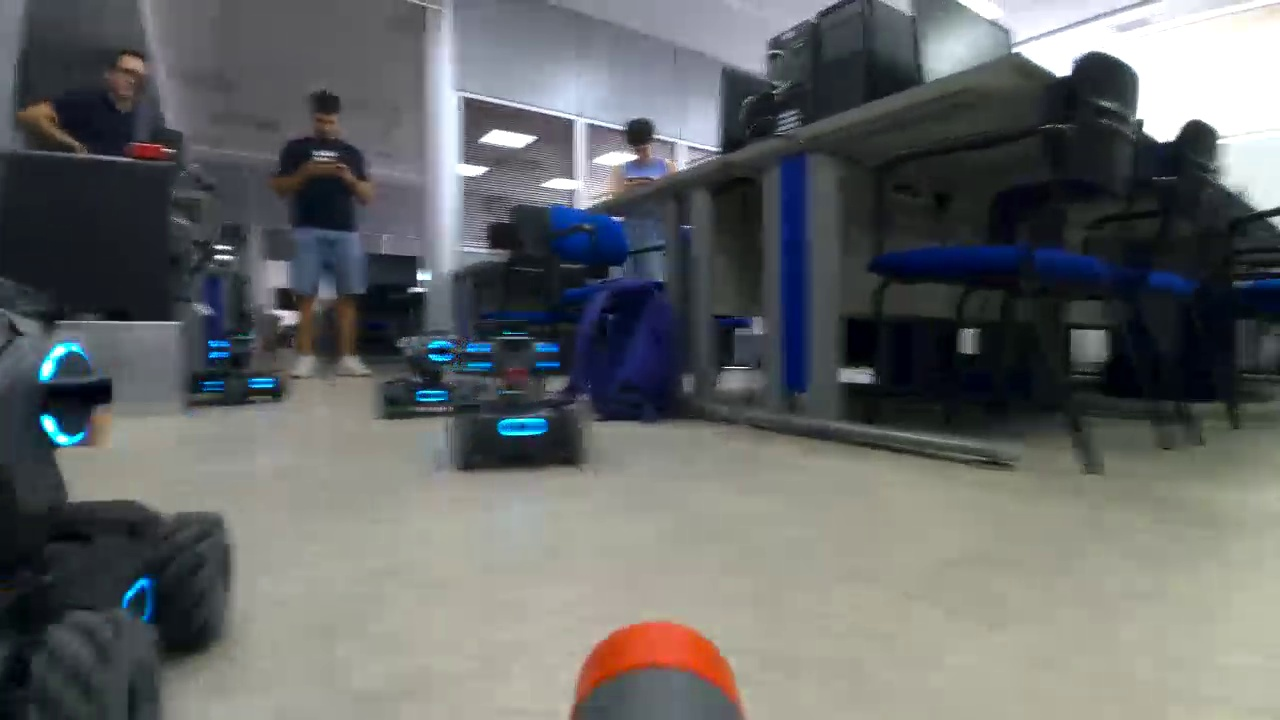robot: (1, 263, 246, 720), (436, 333, 599, 483), (372, 323, 485, 427), (178, 322, 282, 403)
